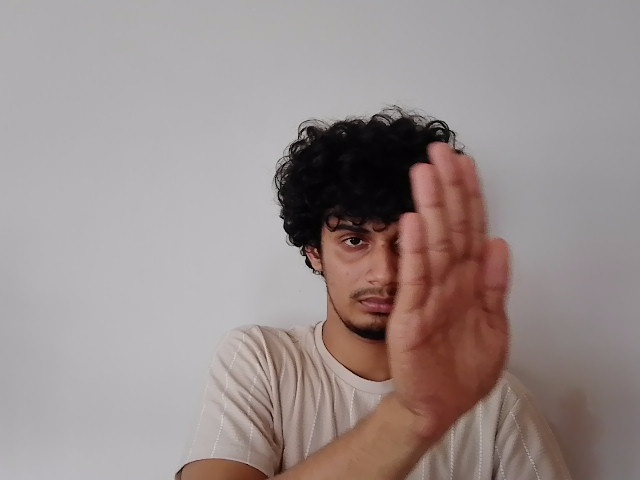hello: (391, 141, 520, 412)
